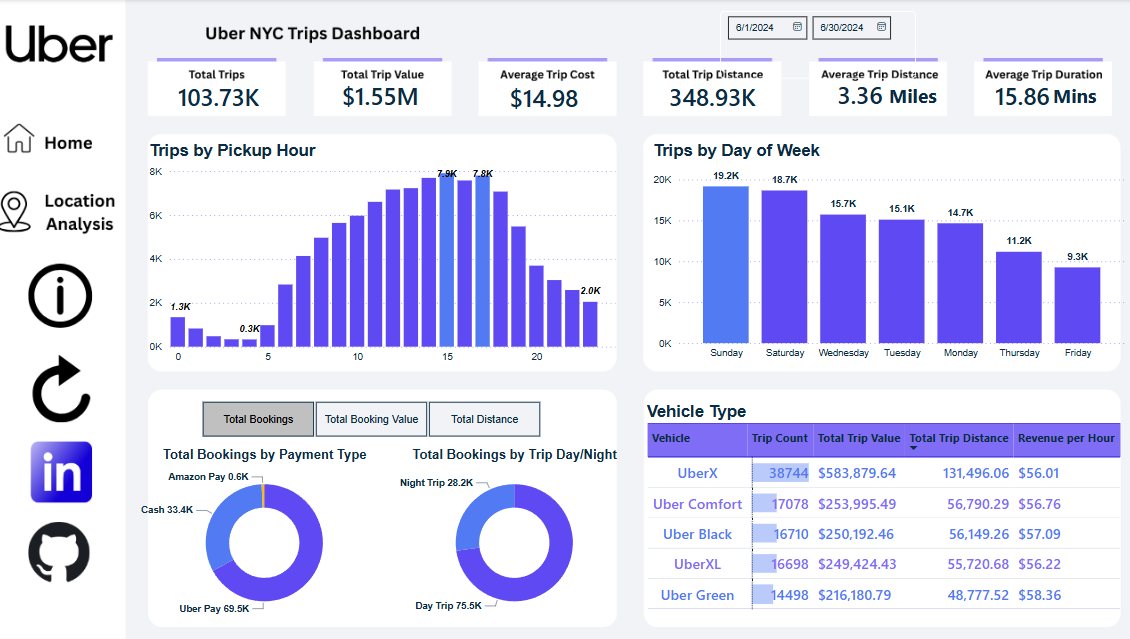

Layout of this report page (visuals, bound fields, positions):
{"tool":"powerbi","page":{"name":"Page 1","canvas":[1280,720],"ordinal":0},"visuals":[{"type":"card","fields":{"Values":["ce98f38e-02cd-42f0-aa26-177c1cdb8085.trip_id"]},"box":[198.4,97.3,105,26.3],"z":0},{"type":"card","fields":{"Values":["ce98f38e-02cd-42f0-aa26-177c1cdb8085.Total Booking Value"]},"box":[378.4,85.6,108,48.6],"z":1000},{"type":"card","fields":{"Values":["uber_trips.Average Booking Value"]},"box":[569.5,85.5,93.9,53],"z":2000},{"type":"card","fields":{"Values":["uber_trips.trip_distance"]},"box":[757.3,90.3,97.5,42.1],"z":3000},{"type":"card","fields":{"Values":["uber_trips.trip_distance"]},"box":[937.9,89.1,67.4,40.9],"z":4000},{"type":"card","fields":{"Values":["uber_trips.Trip Duration (Minutes)"]},"box":[1108.9,93.9,87.9,31.3],"z":5000},{"type":"tableEx","title":"Vehicle Type","fields":{"Values":["uber_trips.vehicle","uber_trips.trip_id","uber_trips.Total Booking Value","uber_trips.trip_distance","uber_trips.Revenue per Hour"]},"box":[728.4,450.3,551.4,269.7],"z":6000},{"type":"clusteredColumnChart","title":"Trips by Pickup Hour","fields":{"Y":["uber_trips.trip_id"],"Category":["uber_trips.Pickup Hour"]},"box":[162.5,149.3,544.2,272.1],"z":7000},{"type":"columnChart","title":"Trips by Day of Week","fields":{"Y":["uber_trips.trip_id"],"Category":["uber_trips.DayOfWeek"]},"box":[728.4,149.3,551.4,272.1],"z":8000},{"type":"slicer","fields":{"Values":["Dynamic.Dynamic"]},"box":[211.9,450.3,419,43.3],"z":9000},{"type":"textbox","box":[1187.9,94.3,70.7,34.8],"z":10000},{"type":"textbox","box":[1003.8,94.3,59.5,41.5],"z":11000},{"type":"slicer","fields":{"Values":["uber_trips.pickup_time"]},"box":[814,13.5,220.1,76.4],"z":12000},{"type":"donutChart","fields":{"Y":["uber_trips.Total Bookings"],"Category":["uber_trips.payment_type"]},"box":[140.9,493.6,325.1,213.1],"z":13000},{"type":"donutChart","fields":{"Y":["uber_trips.Total Bookings"],"Category":["uber_trips.Trip Day/Night"]},"box":[421.4,493.6,325.1,213.1],"z":14000}]}

Visuals, with their boxes on the page's 1280x720 design canvas (x1, y1, x2, y2). These are canvas units, not pixel positions in the 1130x639 screenshot, which may show the page scaled, cropped or inside an application window:
card - ce98f38e-02cd-42f0-aa26-177c1cdb8085.trip_id: box(198, 97, 303, 124)
card - ce98f38e-02cd-42f0-aa26-177c1cdb8085.Total Booking Value: box(378, 86, 486, 134)
card - uber_trips.Average Booking Value: box(570, 86, 663, 138)
card - uber_trips.trip_distance: box(757, 90, 855, 132)
card - uber_trips.trip_distance: box(938, 89, 1005, 130)
card - uber_trips.Trip Duration (Minutes): box(1109, 94, 1197, 125)
"Vehicle Type" tableEx: box(728, 450, 1280, 720)
"Trips by Pickup Hour" clusteredColumnChart: box(162, 149, 707, 421)
"Trips by Day of Week" columnChart: box(728, 149, 1280, 421)
slicer - Dynamic.Dynamic: box(212, 450, 631, 494)
textbox: box(1188, 94, 1259, 129)
textbox: box(1004, 94, 1063, 136)
slicer - uber_trips.pickup_time: box(814, 14, 1034, 90)
donutChart - uber_trips.Total Bookings x uber_trips.payment_type: box(141, 494, 466, 707)
donutChart - uber_trips.Total Bookings x uber_trips.Trip Day/Night: box(421, 494, 746, 707)
